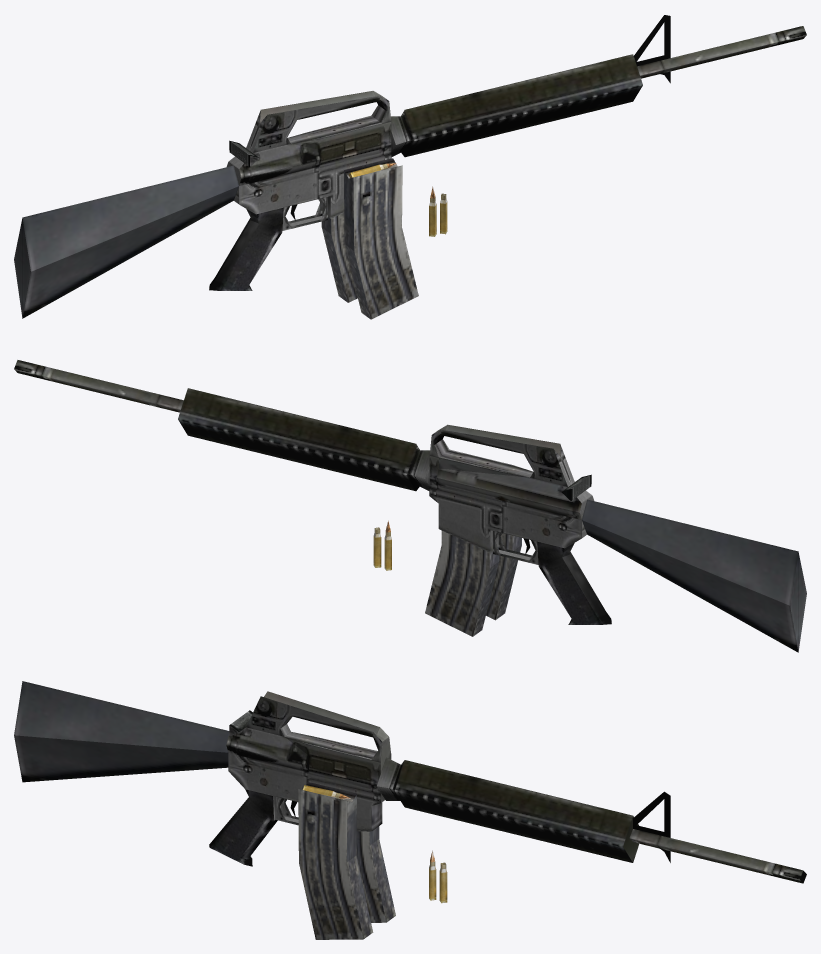
The picture shows the model from 3 angles, top to bottom: view 1: azimuth 30°, elevation 25°; view 2: azimuth 150°, elevation 25°; view 3: azimuth 330°, elevation 25°; orthographic projection.
Parts seen in each view (by area): view 1: M16, M16_Mag_Full, M16_Mag; view 2: M16, M16_Mag, M16_Mag_Full; view 3: M16, M16_Mag_Full, M16_Mag.
Part boxes in pixels (x1=…): M16: x1=14, y1=15, x2=806, y2=318; M16_Mag_Full: x1=344, y1=158, x2=418, y2=319; M16_Mag: x1=321, y1=213, x2=357, y2=302; M16: x1=14, y1=360, x2=806, y2=652; M16_Mag: x1=425, y1=531, x2=499, y2=636; M16_Mag_Full: x1=486, y1=533, x2=521, y2=620; M16: x1=14, y1=681, x2=806, y2=883; M16_Mag_Full: x1=298, y1=782, x2=373, y2=939; M16_Mag: x1=356, y1=826, x2=395, y2=922.
Bounding box in the file's own units: 439 × 111 × 36.93.
3 materials, 3 textured.
